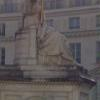Statue: (11, 12, 71, 69)
